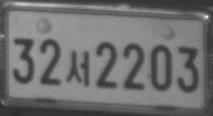0: (150, 44, 173, 93)
2: (94, 41, 118, 89), (39, 38, 62, 86), (122, 42, 145, 90)
3: (11, 36, 35, 84), (177, 46, 200, 93)
서: (65, 49, 90, 88)
